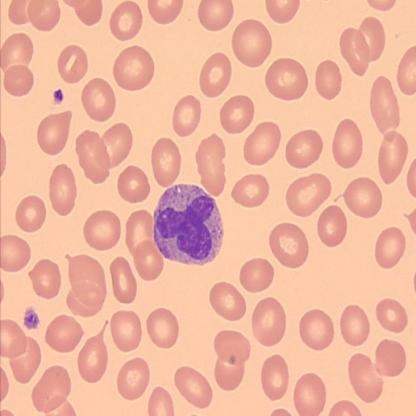Monocyte: (152, 181, 226, 270)
